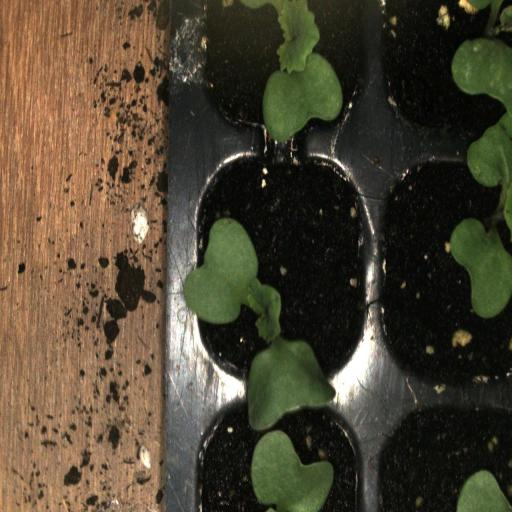seedling: (177, 141, 372, 394)
